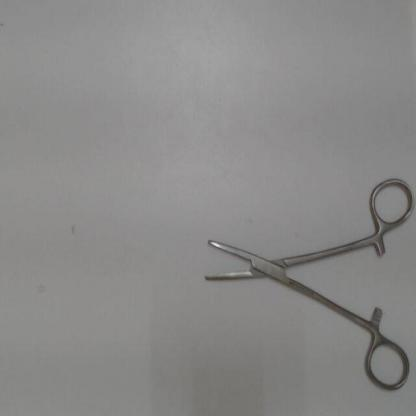Mayo Needle Holder: (198, 174, 415, 397)
